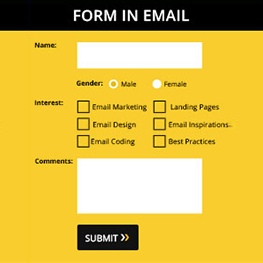_form_: (1, 1, 263, 263)
button: (75, 223, 140, 252)
checkbox: (75, 115, 90, 131), (151, 116, 166, 131), (76, 98, 89, 115), (76, 134, 90, 149), (153, 133, 166, 149), (152, 99, 166, 113)
checkbox_with_label: (34, 156, 204, 215), (149, 115, 234, 132), (74, 97, 146, 116), (150, 97, 219, 115), (151, 132, 216, 150), (74, 133, 135, 150), (73, 116, 137, 132)
field: (74, 157, 203, 214), (76, 41, 202, 69)
field_with_label: (34, 39, 203, 70)
radio: (107, 77, 118, 90), (152, 77, 163, 89)
radio_with_label: (150, 76, 187, 91), (105, 76, 137, 91)
